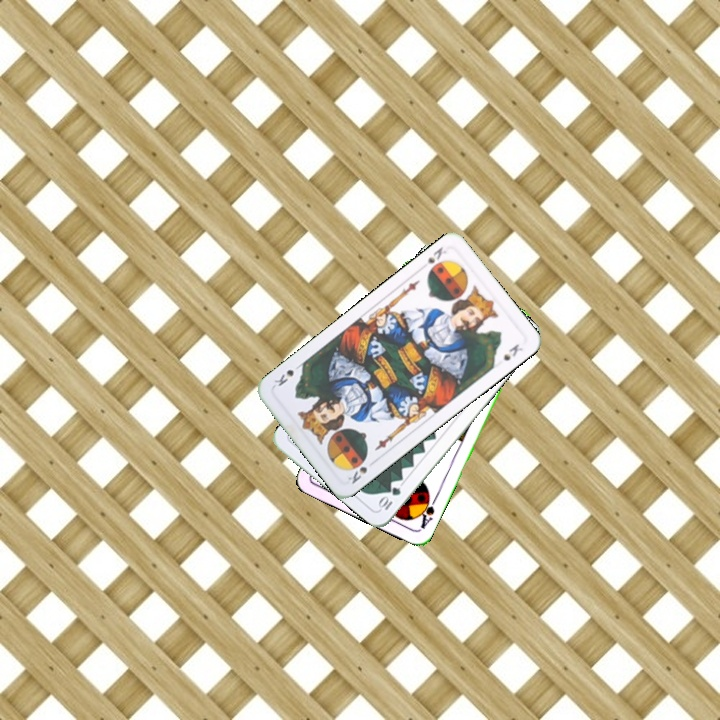G10: (375, 483, 404, 513)
SA: (414, 491, 439, 532)
SK: (344, 454, 379, 487), (423, 243, 449, 266)
